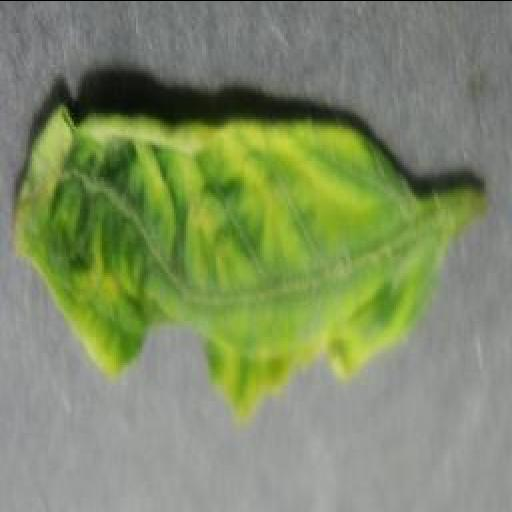disease_tomato: (12, 102, 450, 424)
